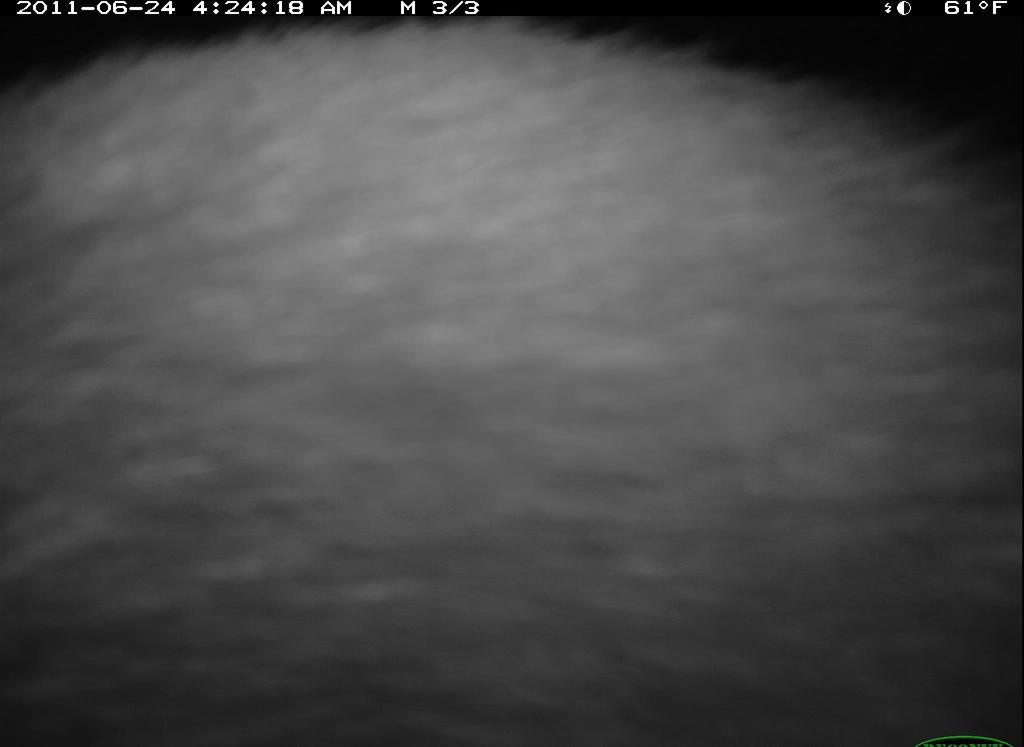raccoon: (11, 9, 1023, 742)
